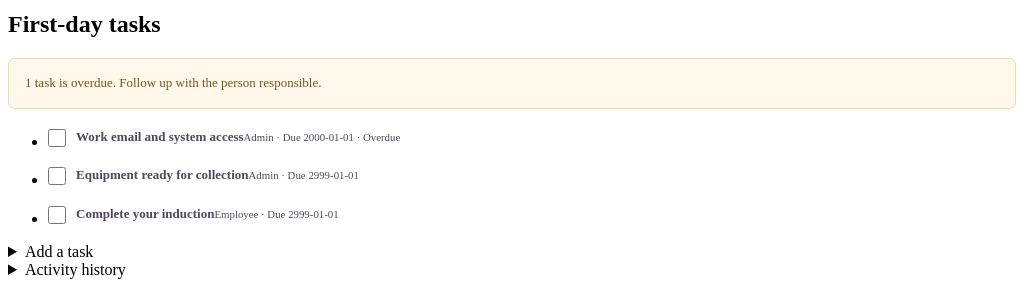
it: overdue notice disappears when the responsible employer completes the task
expect the message shows "1 task is overdue": met, box [8,58,1016,109]
Click the checkbox labelled "Work email and system access" at [57, 138], box [48,129,66,147]
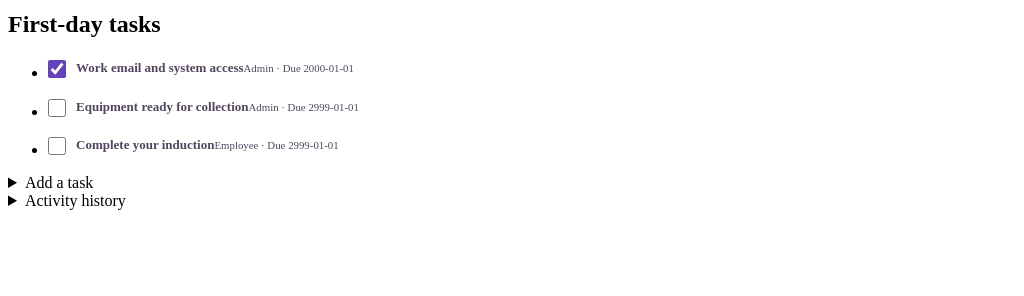
expect the text "task is overdue" is gone: met
